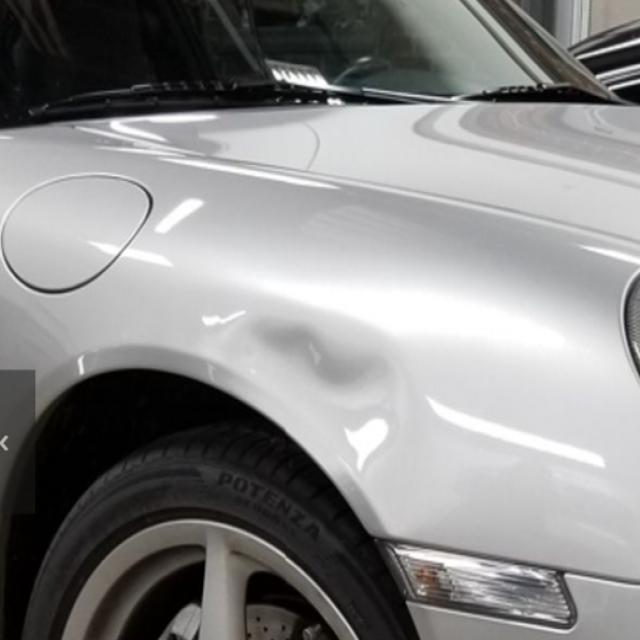dents: (246, 286, 428, 402)
